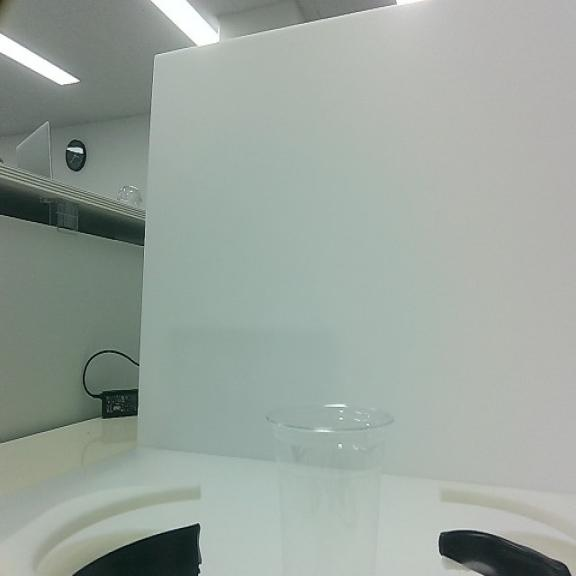Plastik: (262, 400, 394, 576)
